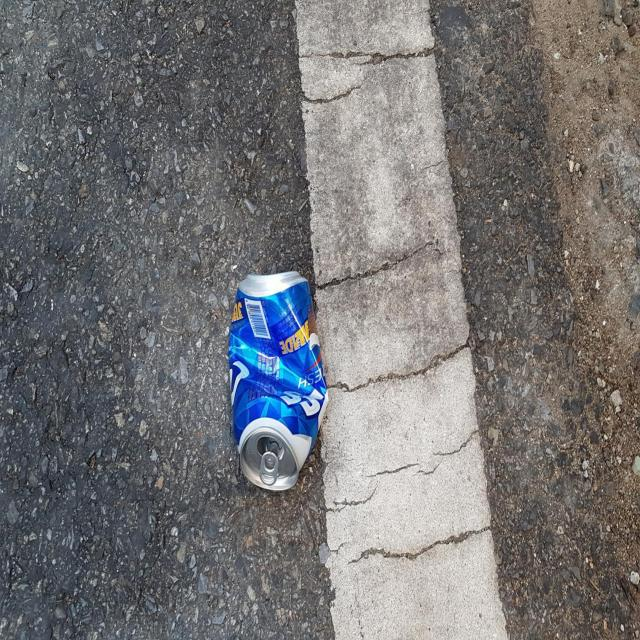can: (228, 271, 329, 490)
